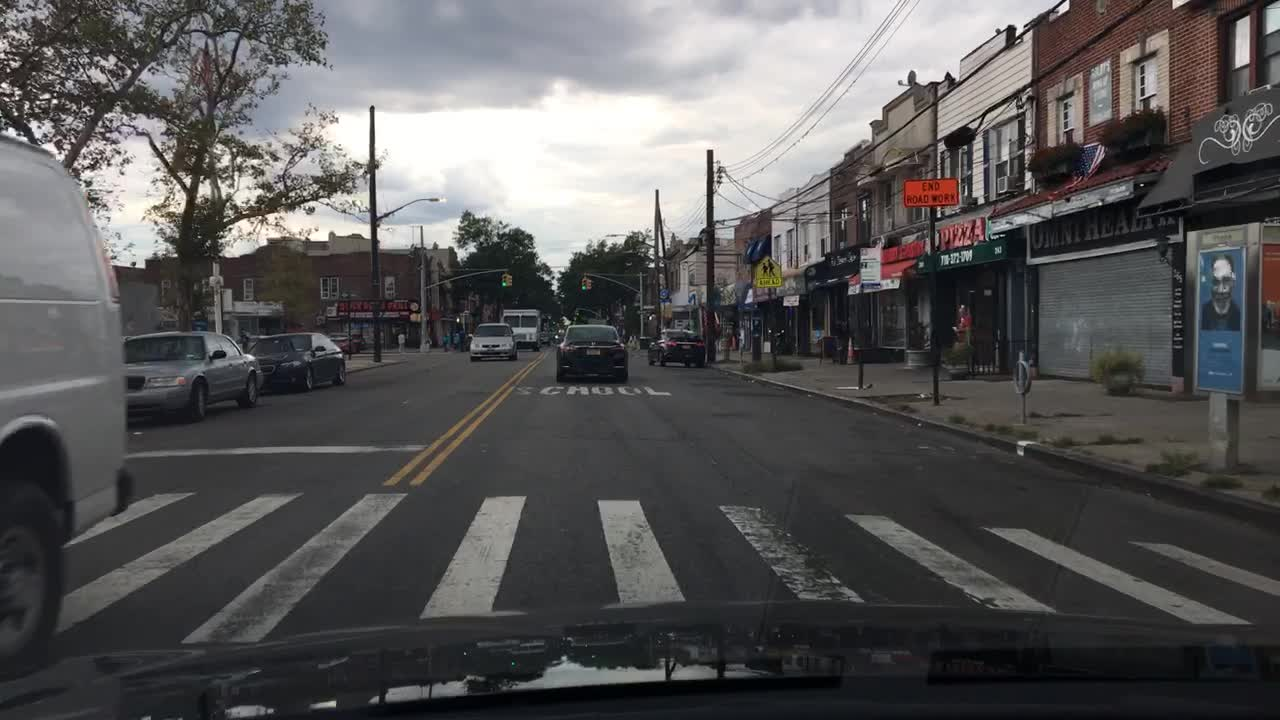car: (0, 132, 135, 663), (120, 328, 263, 420), (244, 330, 346, 390), (555, 321, 629, 385), (646, 326, 706, 369), (467, 320, 517, 364), (327, 330, 357, 356), (350, 332, 369, 348), (538, 329, 552, 350)
person: (952, 306, 972, 343), (236, 326, 251, 354), (395, 328, 406, 354), (441, 331, 450, 352), (458, 327, 464, 351), (452, 329, 458, 349)
traffic light: (580, 277, 586, 291), (586, 277, 592, 291), (500, 273, 506, 286), (506, 273, 512, 286)
traffic sign: (901, 177, 959, 207), (856, 244, 881, 289), (752, 253, 782, 287), (659, 288, 669, 296)
truck: (500, 304, 542, 353)
